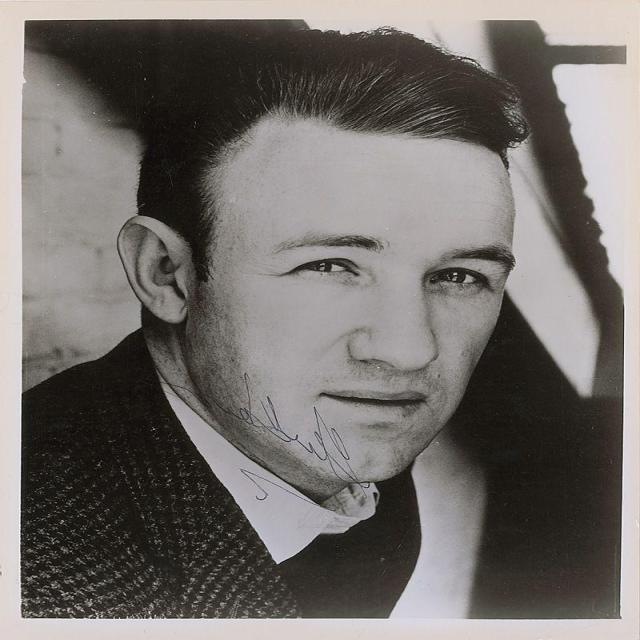no-earmuff: (96, 196, 219, 343)
